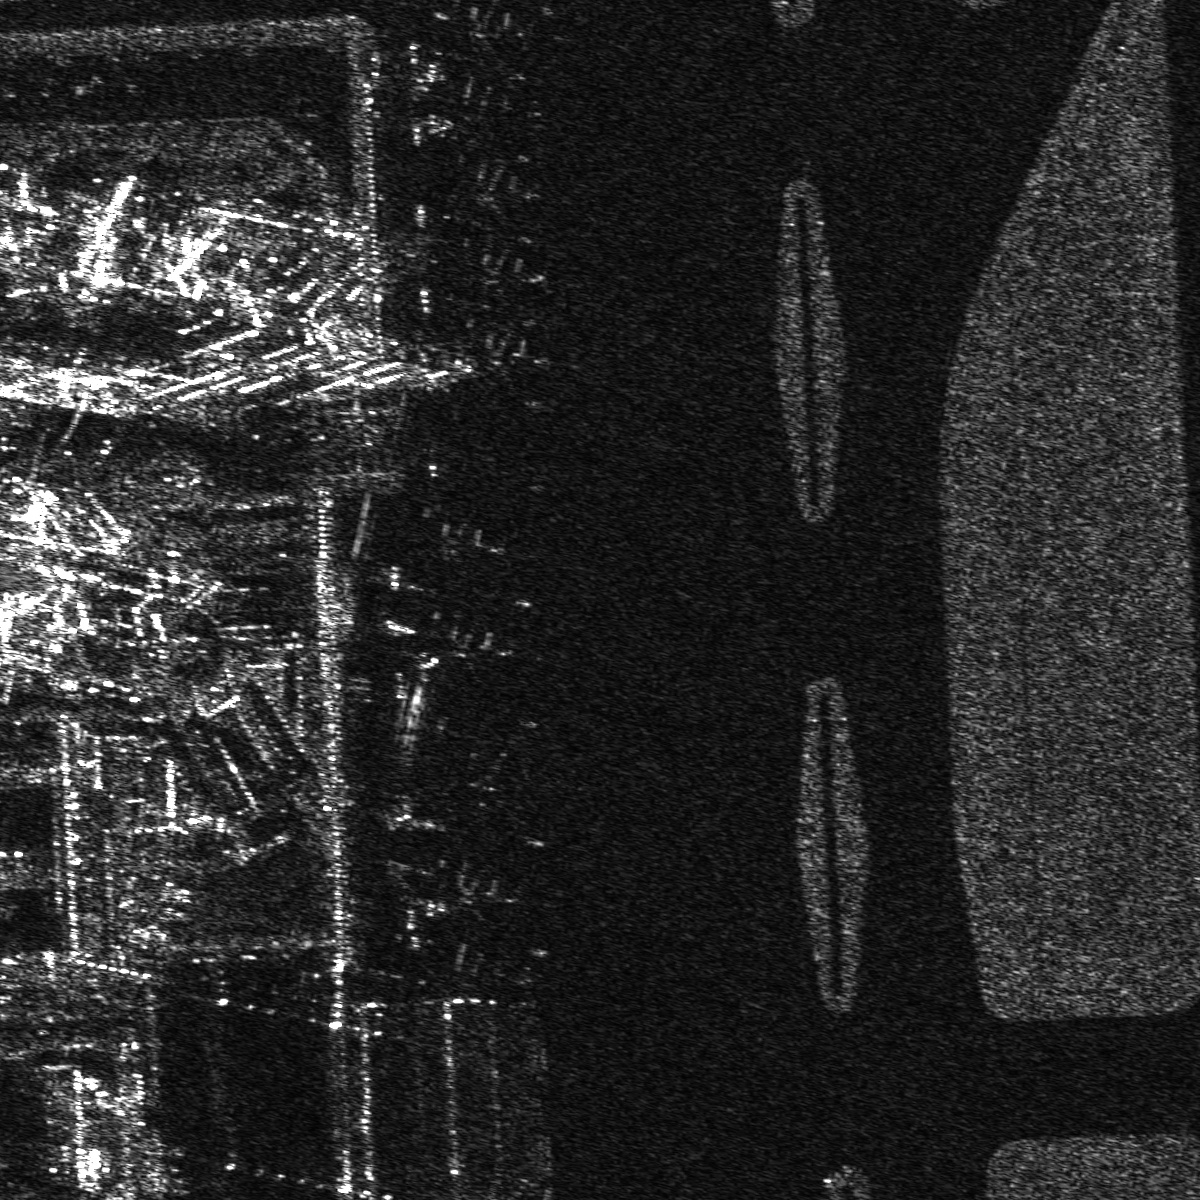A220: (448, 162, 549, 235), (486, 336, 584, 409), (475, 248, 558, 326), (462, 1, 544, 79), (421, 623, 519, 688), (427, 865, 521, 931)
